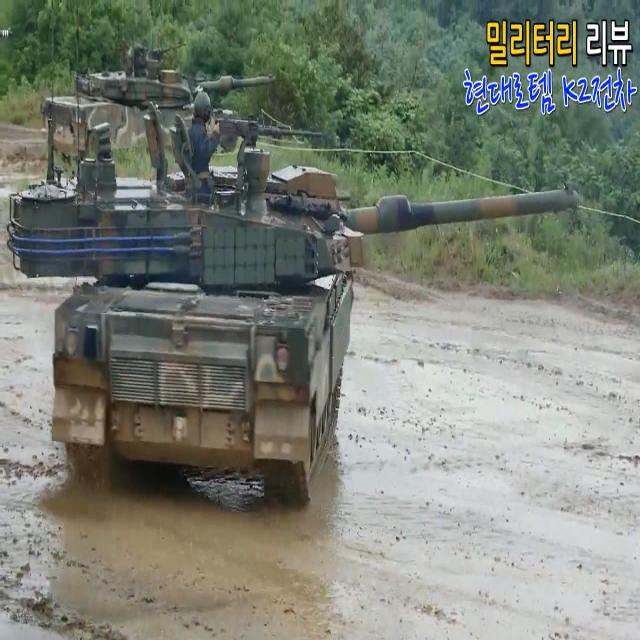korea tank: (4, 88, 578, 508)
